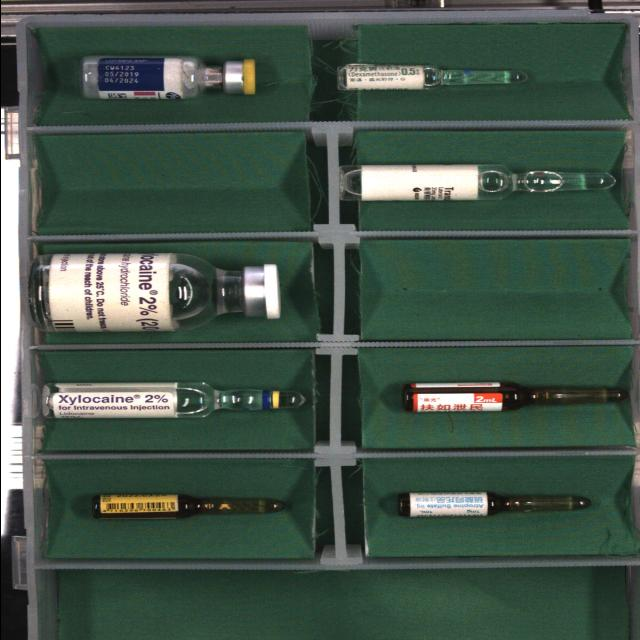Vials: (31, 252, 279, 332), (80, 56, 254, 99)
